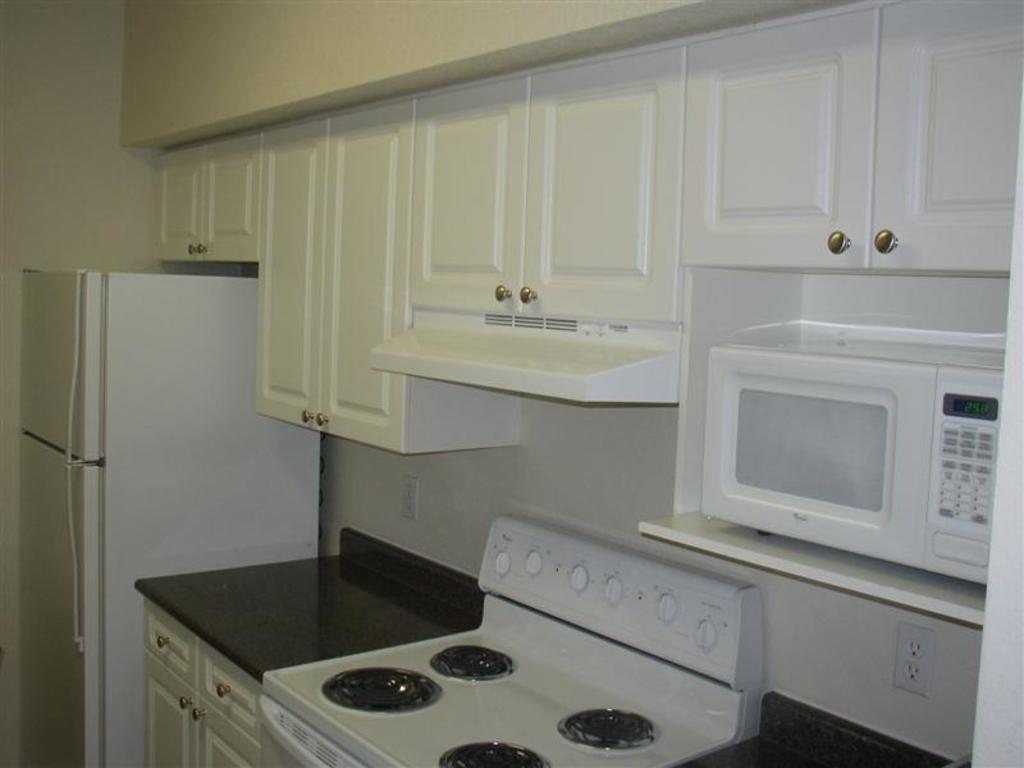cabinet door: (694, 55, 866, 268), (519, 91, 670, 309), (874, 66, 1018, 269), (322, 147, 402, 442), (412, 103, 514, 309), (258, 144, 319, 428), (204, 160, 258, 271), (194, 659, 265, 729), (193, 699, 254, 768), (161, 158, 199, 266), (150, 670, 190, 767), (150, 621, 191, 678)
handle: (55, 466, 86, 645), (62, 274, 86, 431), (870, 222, 898, 259), (825, 225, 850, 261), (514, 278, 541, 307), (206, 672, 231, 702), (295, 400, 312, 434), (152, 628, 171, 658), (312, 411, 332, 435), (493, 282, 511, 307), (187, 702, 201, 729), (194, 237, 210, 260), (178, 691, 191, 716), (183, 238, 199, 258)
refrigerator door: (18, 446, 98, 759), (19, 271, 97, 445)
